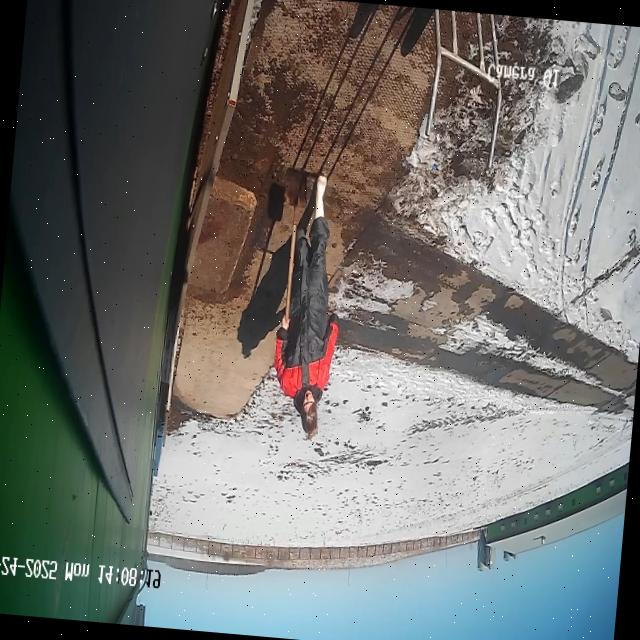Red uniform: (274, 176, 338, 438)
